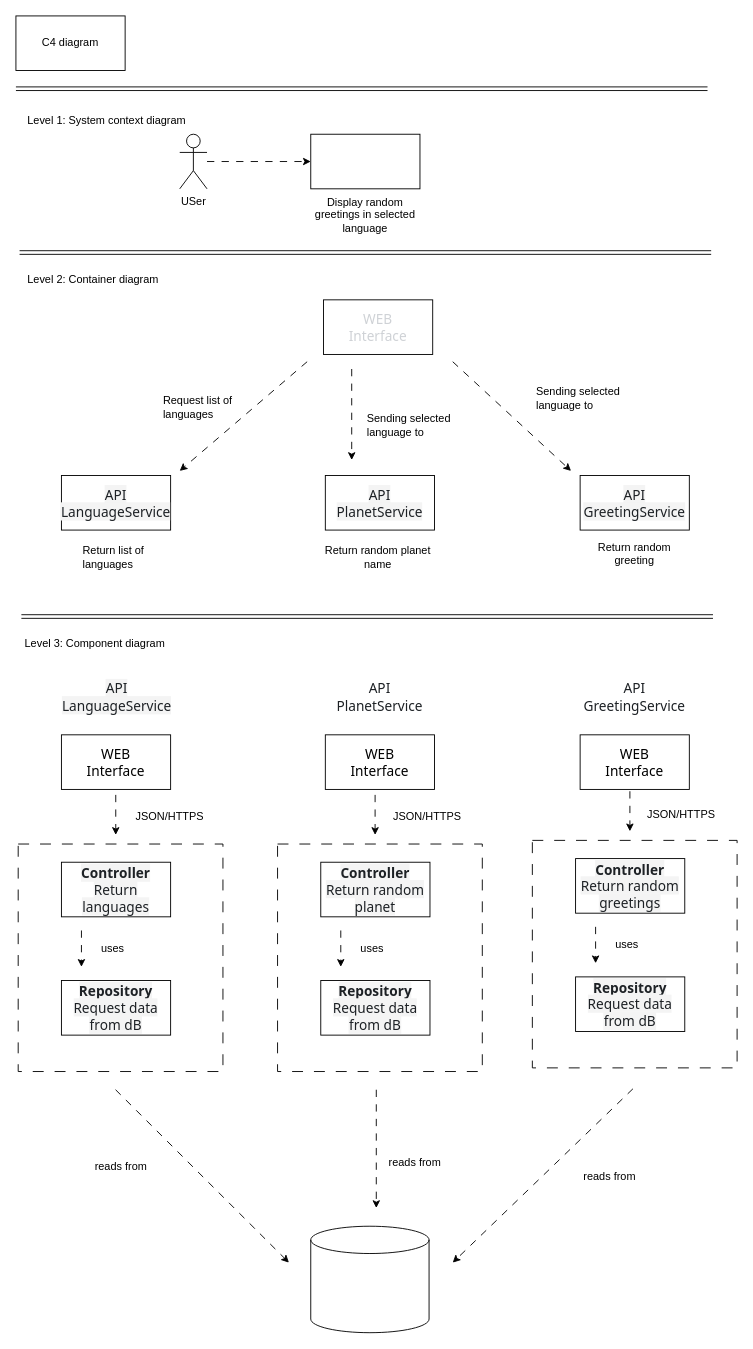
This 753x1349 diagram has some shape labels left out. Each missing label, with the centre of its shape:
"Database Stores data" belongs at [369,1279].
"HelloWorld.App" belongs at [365,161].
